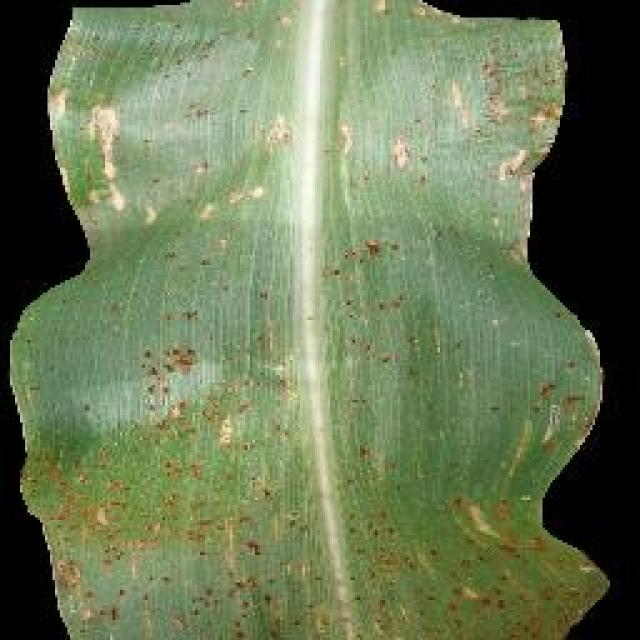Corn___Common_rust: (57, 114, 467, 616)
